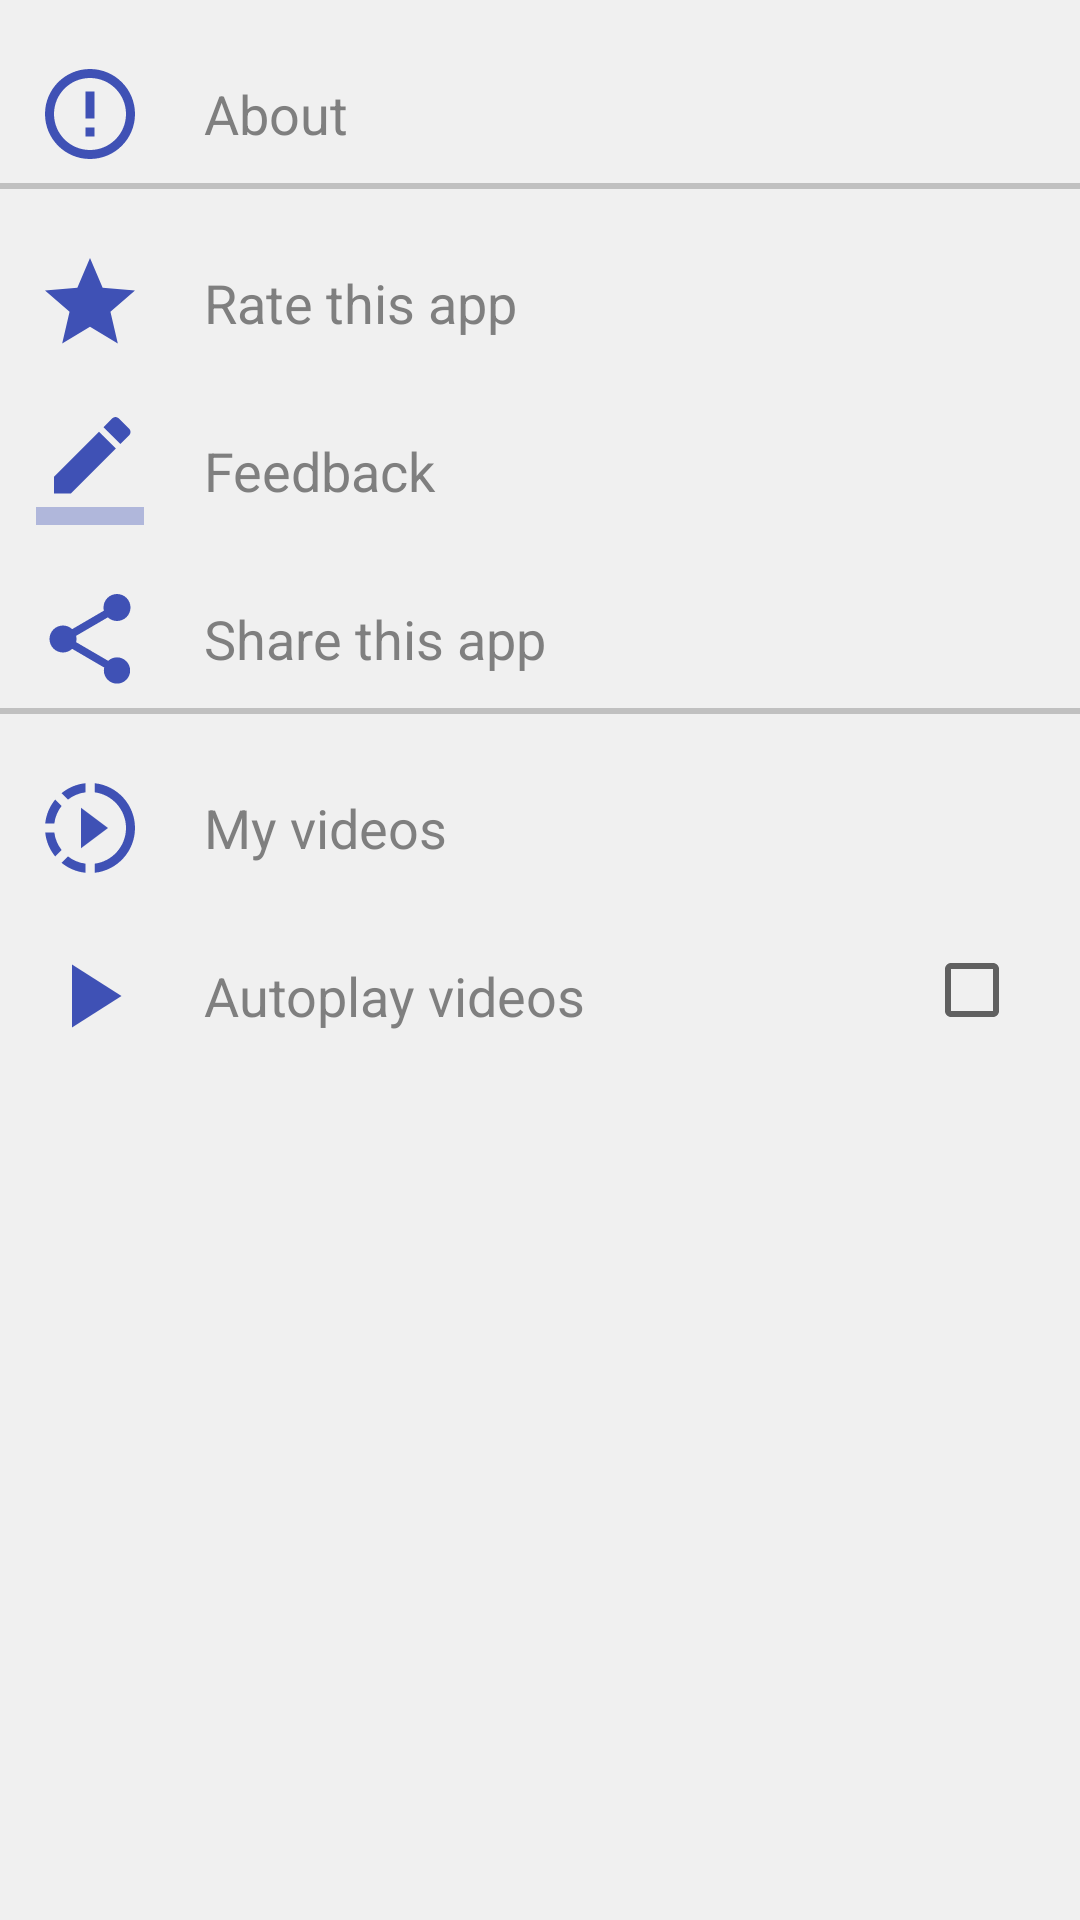

Icons on this 1080w x 1920h Android screen, each with its box as (left=x1, top=y1, right=x2, bottom=y2):
info: (left=45, top=69, right=135, bottom=159)
star: (left=45, top=258, right=135, bottom=344)
